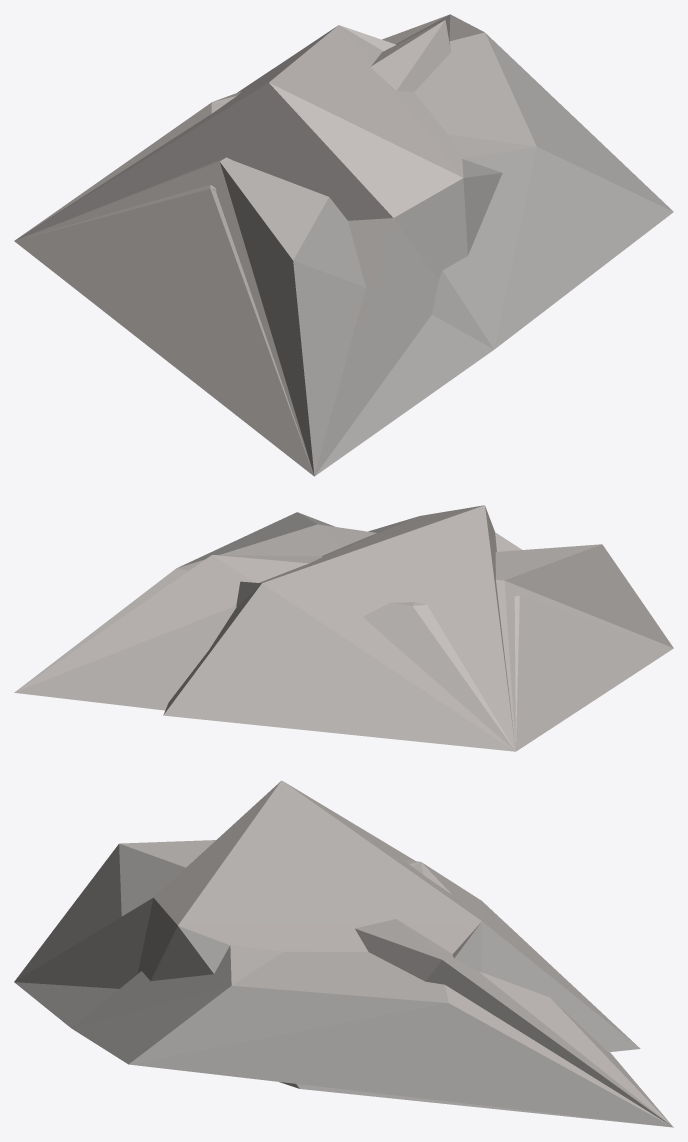
File: rocks.obj
3 views of the same model, one above another, from view 1: azimuth 30°, elevation 25°; view 2: azimuth 150°, elevation 25°; view 3: azimuth 270°, elevation 25° (orthographic). The views are drawn at different scales.
Parts seen in each view (by area): view 1: Rock_Cube.001, Rock.002_Cube.003, Rock.001_Cube.002; view 2: Rock.002_Cube.003, Rock_Cube.001, Rock.001_Cube.002; view 3: Rock_Cube.001, Rock.002_Cube.003, Rock.001_Cube.002.
Boxes of the visible parts, left/top/right/bottom form: Rock_Cube.001: left=14, top=14, right=673, bottom=476; Rock.002_Cube.003: left=15, top=25, right=502, bottom=475; Rock.001_Cube.002: left=15, top=14, right=450, bottom=475; Rock.002_Cube.003: left=163, top=505, right=521, bottom=751; Rock_Cube.001: left=14, top=512, right=673, bottom=751; Rock.001_Cube.002: left=15, top=544, right=673, bottom=750; Rock_Cube.001: left=14, top=860, right=673, bottom=1127; Rock.002_Cube.003: left=14, top=780, right=640, bottom=1088; Rock.001_Cube.002: left=14, top=840, right=672, bottom=1126.
Bounding box in the file's own units: 1.89 × 0.8884 × 2.16.
1 material, 1 textured.
